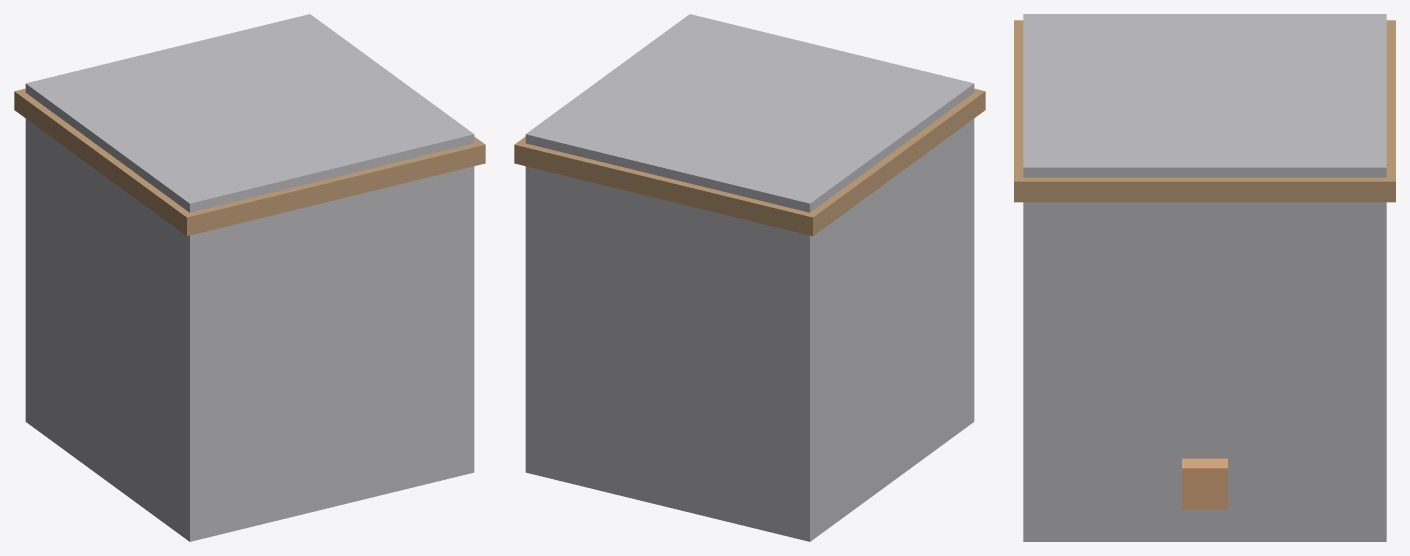
Rendered from Prop_Water_AMF_Cistern_V1.glb.
3 views of the same model, side by side, from view 1: azimuth 30°, elevation 25°; view 2: azimuth 150°, elevation 25°; view 3: azimuth 270°, elevation 25° (orthographic). The views are drawn at different scales.
Parts seen in each view (by area): view 1: Prop_Water_AMF_Cistern_V1; view 2: Prop_Water_AMF_Cistern_V1; view 3: Prop_Water_AMF_Cistern_V1.
Boxes of the visible parts, x1=… form: Prop_Water_AMF_Cistern_V1: x1=14, y1=14, x2=485, y2=541; Prop_Water_AMF_Cistern_V1: x1=514, y1=14, x2=985, y2=541; Prop_Water_AMF_Cistern_V1: x1=1014, y1=14, x2=1395, y2=541.
Size of the model in its own units: 1.72 by 1.8 by 1.66.
